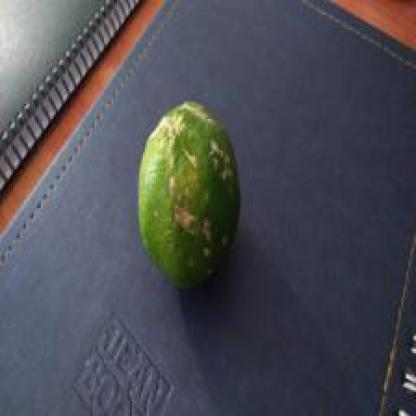orange_rotten: (115, 85, 292, 303)
